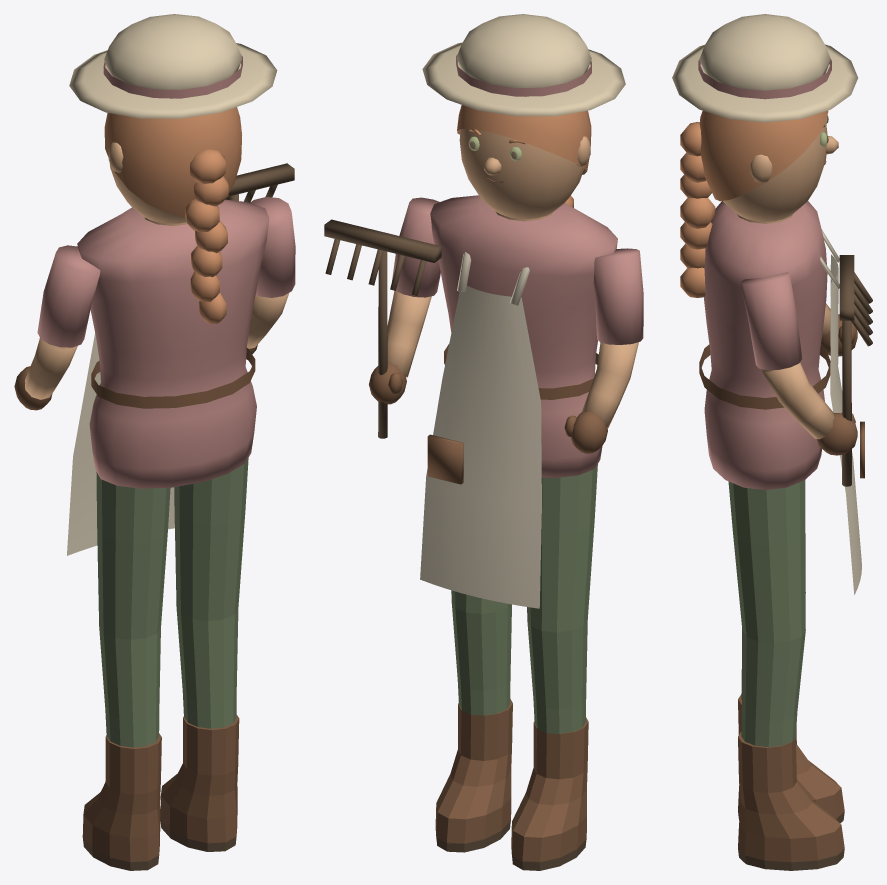
Rendered from SM_NPC_FLORA.glb.
The picture shows the model from 3 angles, left to right: view 1: azimuth 30°, elevation 25°; view 2: azimuth 150°, elevation 25°; view 3: azimuth 270°, elevation 25°; orthographic projection. The views are drawn at different scales.
Parts seen in each view (by area): view 1: SM_NPC_FLORA_BODY, SM_NPC_FLORA_HAIR, SM_NPC_FLORA_LEG_L, SM_NPC_FLORA_LEG_R, SM_NPC_FLORA_ARM_L, SM_NPC_FLORA_ARM_R, SM_NPC_FLORA_HEAD; view 2: SM_NPC_FLORA_BODY, SM_NPC_FLORA_LEG_L, SM_NPC_FLORA_HAIR, SM_NPC_FLORA_LEG_R, SM_NPC_FLORA_ARM_R, SM_NPC_FLORA_ARM_L, SM_NPC_FLORA_HEAD; view 3: SM_NPC_FLORA_BODY, SM_NPC_FLORA_LEG_R, SM_NPC_FLORA_HAIR, SM_NPC_FLORA_ARM_R, SM_NPC_FLORA_HEAD, SM_NPC_FLORA_LEG_L, SM_NPC_FLORA_ARM_L.
Part boxes in pixels (x1,y1,x2,y2): SM_NPC_FLORA_BODY: [67, 199, 269, 555]; SM_NPC_FLORA_HAIR: [69, 14, 277, 323]; SM_NPC_FLORA_LEG_L: [82, 472, 170, 870]; SM_NPC_FLORA_LEG_R: [160, 458, 248, 851]; SM_NPC_FLORA_ARM_L: [14, 245, 100, 410]; SM_NPC_FLORA_ARM_R: [225, 163, 295, 354]; SM_NPC_FLORA_HEAD: [108, 125, 241, 223]; SM_NPC_FLORA_BODY: [420, 195, 617, 608]; SM_NPC_FLORA_LEG_L: [511, 464, 597, 870]; SM_NPC_FLORA_HAIR: [422, 14, 625, 207]; SM_NPC_FLORA_LEG_R: [435, 590, 512, 852]; SM_NPC_FLORA_ARM_R: [324, 197, 441, 438]; SM_NPC_FLORA_ARM_L: [564, 248, 643, 453]; SM_NPC_FLORA_HEAD: [459, 129, 590, 218]; SM_NPC_FLORA_BODY: [699, 201, 864, 594]; SM_NPC_FLORA_LEG_R: [728, 480, 844, 870]; SM_NPC_FLORA_HAIR: [672, 14, 857, 297]; SM_NPC_FLORA_ARM_R: [740, 255, 872, 486]; SM_NPC_FLORA_HEAD: [723, 122, 838, 221]; SM_NPC_FLORA_LEG_L: [738, 480, 844, 823]; SM_NPC_FLORA_ARM_L: [821, 303, 857, 356].
Size of the model in its own units: 0.68 by 1.89 by 0.4215.
